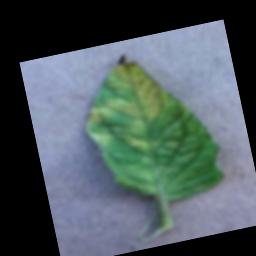Leaf_Mold: (73, 53, 181, 163)
